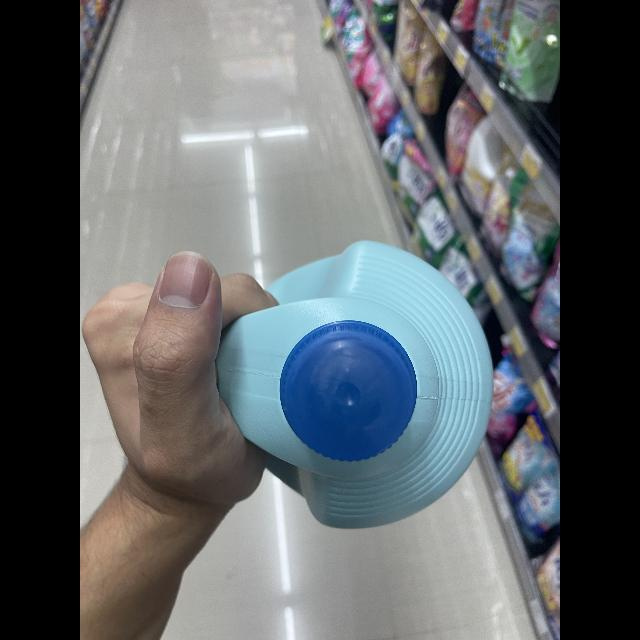chemical_plastic_bottle: (206, 234, 498, 538)
